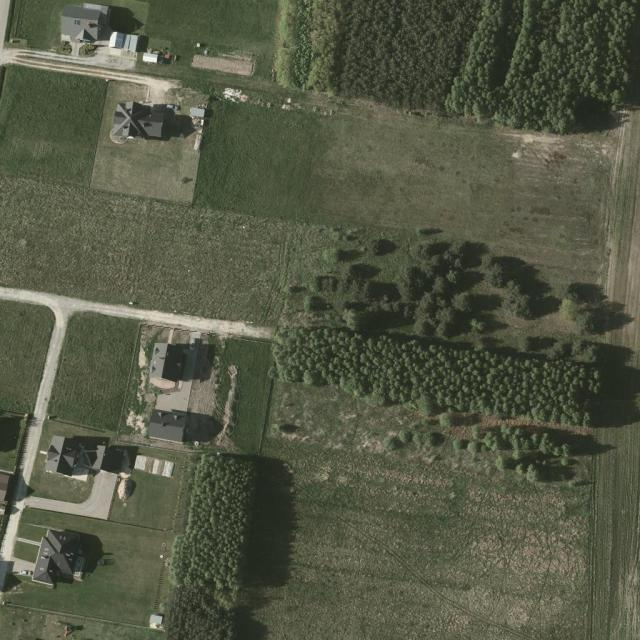agricultural_land: (55, 316, 144, 429), (601, 346, 640, 490)
greenland: (267, 322, 611, 497)
metalled_road: (0, 286, 273, 458)
